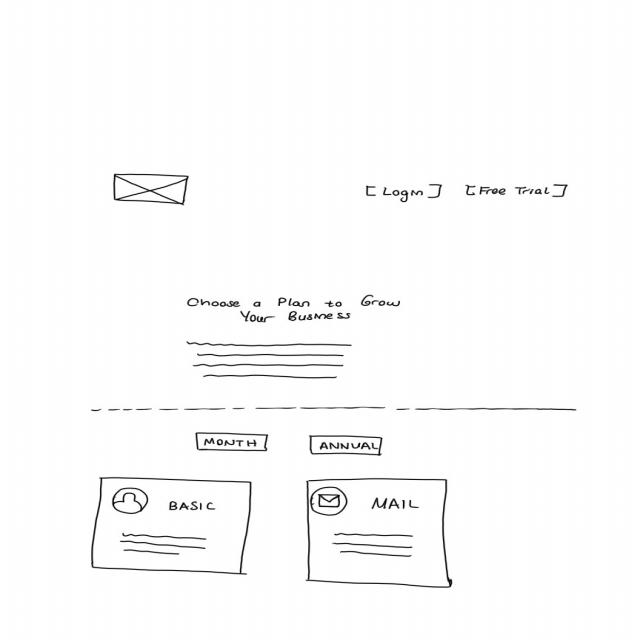button: (307, 432, 385, 457), (192, 431, 270, 452)
container: (303, 476, 456, 590), (90, 474, 253, 578)
icon-button: (310, 486, 350, 516)
image: (111, 172, 190, 207), (110, 487, 150, 515)
label: (185, 293, 406, 324), (369, 496, 422, 512), (168, 500, 218, 512)
link: (464, 182, 569, 199), (362, 182, 444, 202)
textbox: (184, 339, 353, 383), (330, 530, 417, 560), (118, 530, 209, 557)
